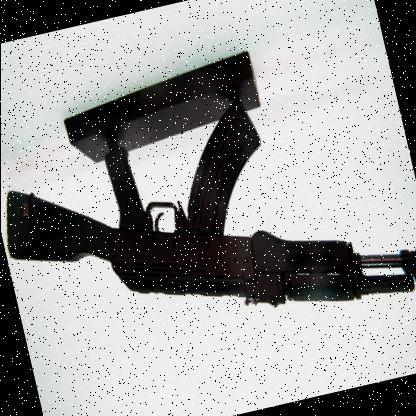rifle: (0, 51, 416, 410)
